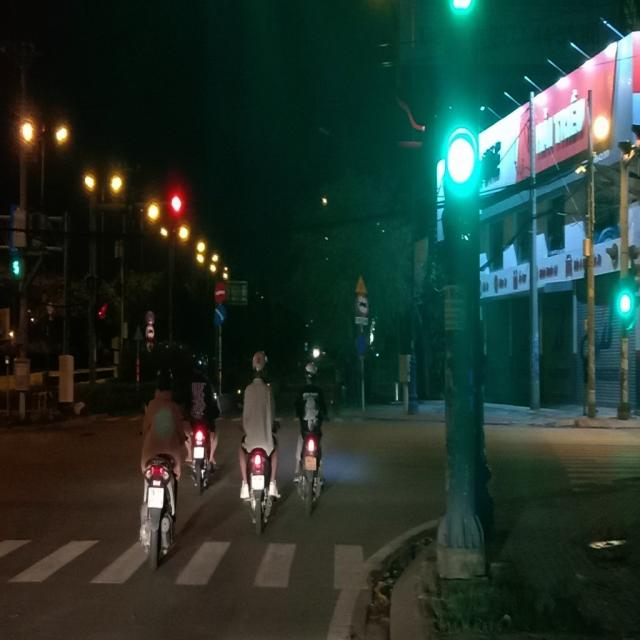cam_dung_xe_va_do_xe: (354, 332, 369, 357)
cam_o_to_tai: (355, 292, 369, 318), (146, 326, 154, 340)
cam_xe_di_nguoc_chieu: (213, 280, 227, 304)
huong_di_tren_moi_lan_duong_theo_vach_ke_duong: (213, 305, 228, 327)
khac: (354, 272, 368, 294), (355, 318, 368, 326)
